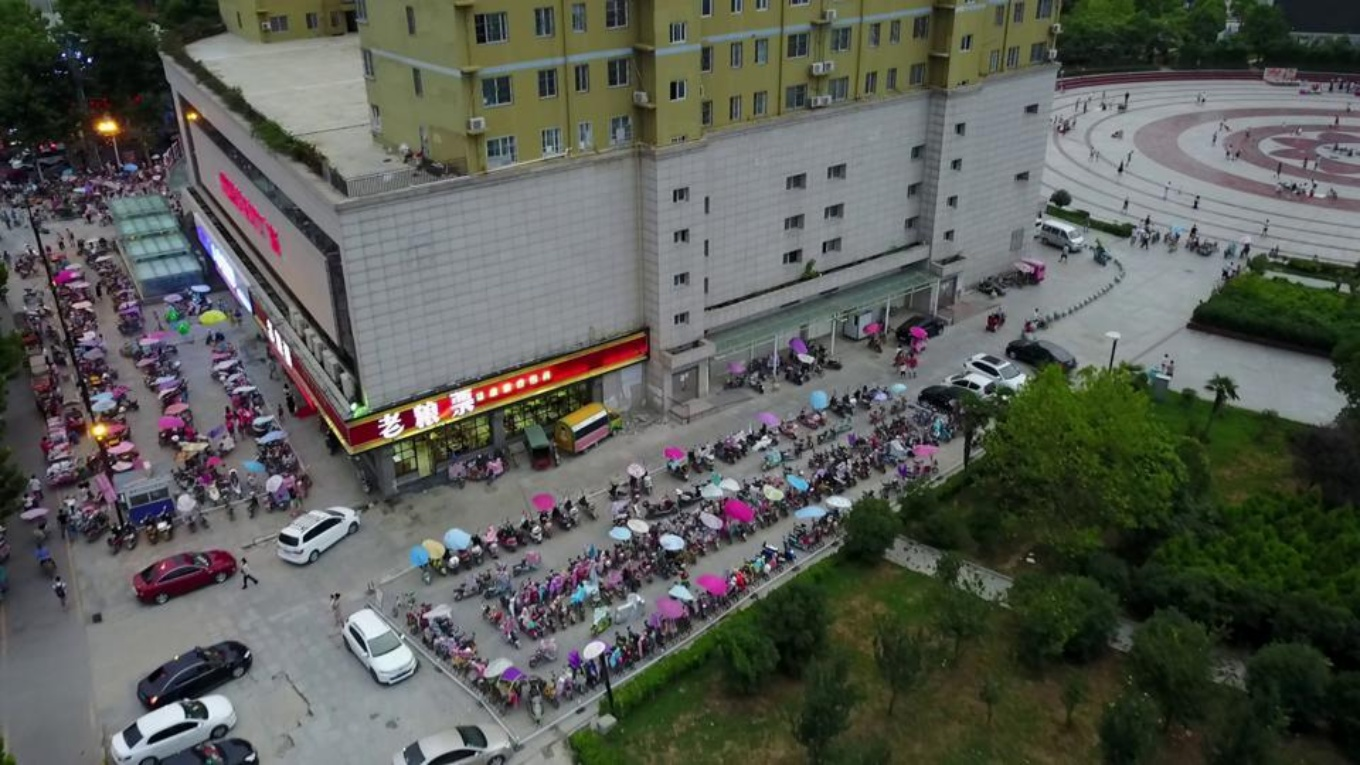awning-tricycle: (519, 421, 550, 472), (1016, 254, 1046, 286), (1091, 233, 1112, 267)
bicycle: (868, 378, 893, 397), (36, 550, 53, 577)
car: (104, 689, 237, 764), (134, 638, 252, 712), (120, 546, 237, 606), (338, 607, 420, 686), (387, 717, 514, 764), (273, 504, 359, 566), (957, 348, 1032, 393), (151, 736, 260, 764), (1001, 334, 1078, 370), (914, 380, 986, 417), (937, 368, 1001, 403), (893, 312, 943, 342)
ignored regions: (62, 260, 283, 494), (1056, 59, 1359, 215), (472, 573, 712, 710), (0, 141, 195, 227), (559, 538, 792, 601), (668, 489, 853, 560), (764, 448, 937, 515), (724, 321, 845, 387), (851, 419, 958, 467)
motor: (659, 444, 691, 482), (406, 543, 433, 584), (518, 511, 543, 546), (621, 465, 644, 502), (423, 538, 447, 573), (559, 489, 580, 529), (603, 474, 630, 505), (438, 538, 460, 576), (750, 419, 780, 446), (724, 427, 750, 458), (709, 436, 737, 464), (574, 489, 598, 521), (451, 528, 471, 566), (506, 516, 529, 549), (550, 497, 572, 531), (791, 407, 822, 431), (498, 516, 518, 553), (104, 519, 124, 556), (152, 502, 172, 539), (825, 387, 849, 417), (137, 511, 158, 545), (773, 414, 800, 440), (480, 523, 499, 559), (535, 504, 555, 538), (118, 516, 138, 550), (695, 441, 717, 471), (683, 443, 703, 475), (19, 283, 49, 304), (465, 526, 482, 563), (808, 393, 828, 424), (849, 382, 868, 410), (1022, 315, 1049, 331), (1161, 225, 1182, 244), (1236, 242, 1253, 259)
others: (553, 402, 624, 457)
pedestrian: (48, 574, 72, 613), (237, 556, 259, 590), (52, 506, 73, 539), (26, 472, 45, 501), (329, 589, 344, 624), (36, 434, 53, 463), (18, 491, 35, 518), (281, 392, 298, 417), (906, 351, 918, 379), (0, 249, 14, 271), (1158, 348, 1169, 376), (1162, 358, 1176, 380), (52, 229, 66, 250), (1185, 222, 1199, 243), (1258, 218, 1270, 240), (1332, 271, 1343, 295), (1128, 223, 1138, 249), (1139, 226, 1149, 252), (1220, 257, 1233, 277), (63, 230, 77, 247), (283, 382, 294, 403), (896, 359, 907, 380), (1057, 242, 1067, 263), (1240, 236, 1250, 257)
people: (31, 540, 56, 567), (1030, 305, 1039, 328), (327, 591, 337, 610), (1308, 252, 1319, 269), (994, 305, 1003, 322), (1169, 230, 1178, 244), (1233, 263, 1241, 278), (1226, 269, 1234, 281)
tricycle: (982, 304, 1006, 331)
van: (1039, 218, 1086, 253)
